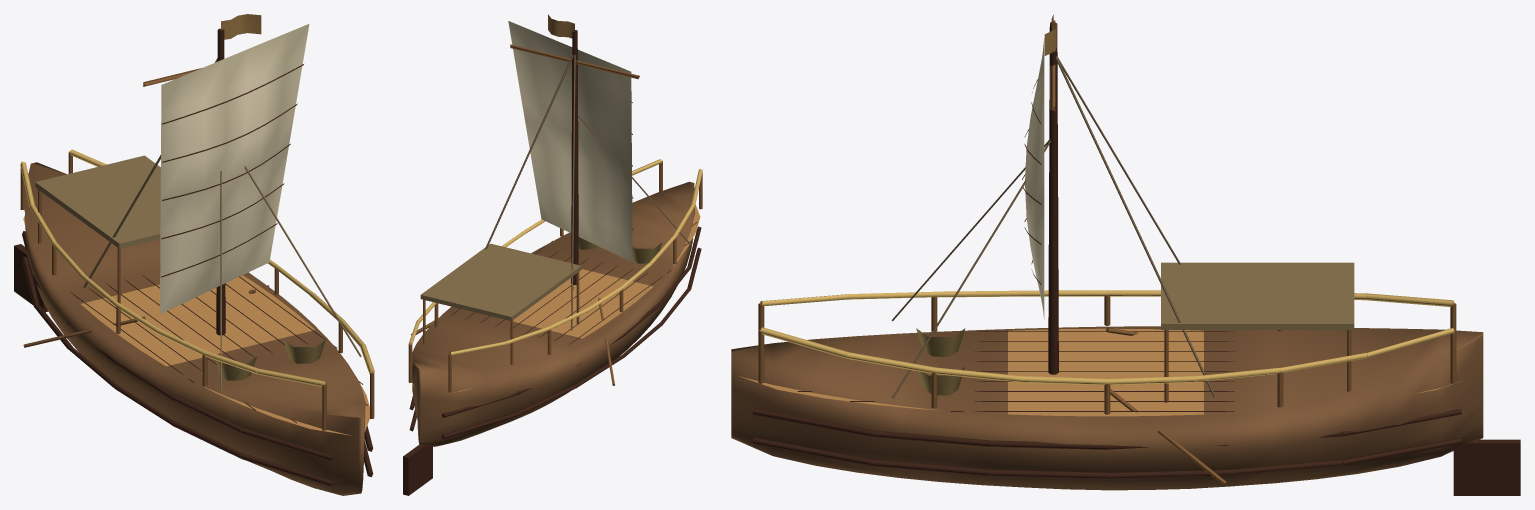
The model's file is fisherman-lod1.glb.
3 renders of one model, left to right at view 1: azimuth 30°, elevation 25°; view 2: azimuth 150°, elevation 25°; view 3: azimuth 270°, elevation 25°, orthographic. The views are drawn at different scales.
Visible parts, largest first — view 1: hull, sail_01, deck, fittings_wood, fishing_canopy_body, fittings_trim, fittings_deck, rudder_pivot, flag_01, mast_timber_01; view 2: hull, sail_01, fishing_canopy_body, fittings_wood, deck, fittings_trim, mast_timber_01, rudder_pivot, fittings_deck, mast_01, flag_01; view 3: hull, deck, fittings_wood, fishing_canopy_body, fittings_trim, rudder_pivot, sail_01, mast_timber_01, fittings_deck.
Part boxes in pixels (bbox=[...]): hull: bbox=[24, 162, 365, 495]; sail_01: bbox=[160, 24, 309, 313]; deck: bbox=[23, 215, 369, 435]; fittings_wood: bbox=[20, 151, 374, 486]; fishing_canopy_body: bbox=[35, 155, 160, 248]; fittings_trim: bbox=[20, 58, 374, 390]; fittings_deck: bbox=[70, 270, 368, 423]; rudder_pivot: bbox=[14, 244, 48, 312]; flag_01: bbox=[221, 14, 261, 39]; mast_timber_01: bbox=[216, 28, 225, 335]; hull: bbox=[412, 181, 694, 446]; sail_01: bbox=[508, 21, 633, 262]; fishing_canopy_body: bbox=[420, 243, 581, 321]; fittings_wood: bbox=[408, 160, 702, 438]; deck: bbox=[412, 204, 700, 393]; fittings_trim: bbox=[408, 54, 702, 355]; mast_timber_01: bbox=[571, 30, 578, 284]; rudder_pivot: bbox=[403, 444, 432, 495]; fittings_deck: bbox=[450, 222, 697, 345]; mast_01: bbox=[510, 44, 639, 79]; flag_01: bbox=[548, 14, 574, 38]; hull: bbox=[731, 326, 1483, 490]; deck: bbox=[739, 328, 1458, 416]; fittings_wood: bbox=[752, 295, 1461, 485]; fishing_canopy_body: bbox=[1161, 262, 1354, 329]; fittings_trim: bbox=[760, 56, 1454, 398]; rudder_pivot: bbox=[1453, 439, 1520, 495]; sail_01: bbox=[1022, 38, 1044, 319]; mast_timber_01: bbox=[1048, 22, 1058, 374]; fittings_deck: bbox=[797, 331, 1234, 411].
Bounding box in the file's own units: 6.06 × 9.86 × 14.7.
